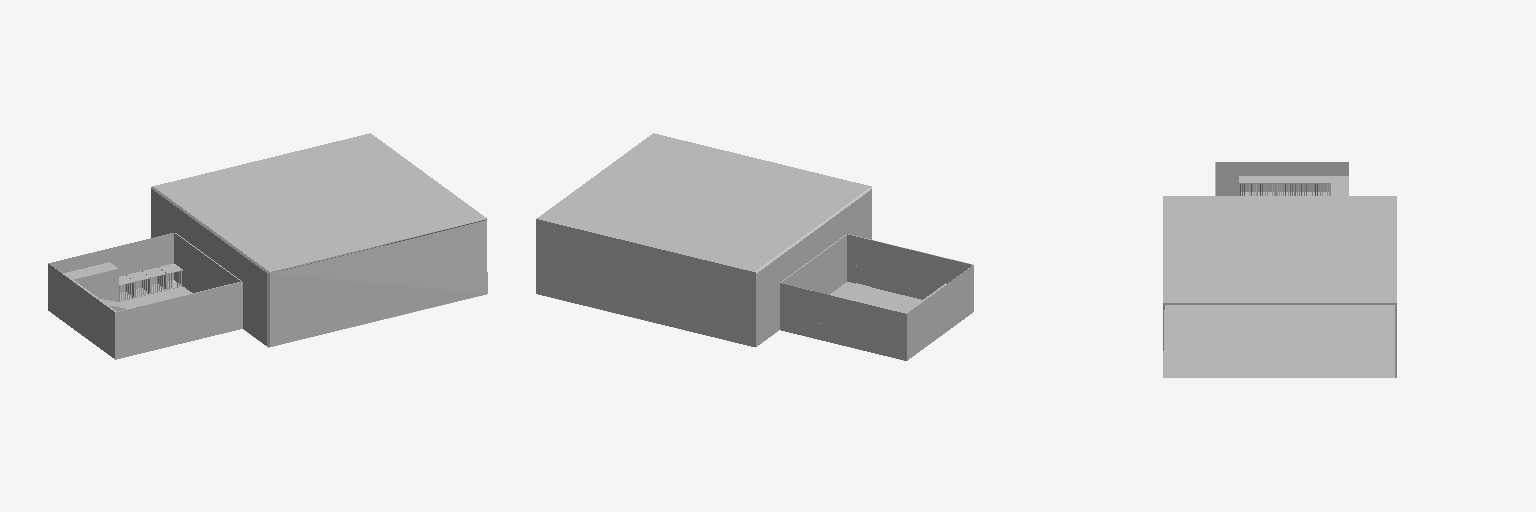
File: prison.obj
3 views of the same model, side by side, from view 1: azimuth 30°, elevation 25°; view 2: azimuth 150°, elevation 25°; view 3: azimuth 270°, elevation 25° (orthographic).
Visible parts, largest first — view 1: Cube.016_Cube.010, Cube.014_Cube.008, Cube.013_Cube.007, Plane.002_Plane.003; view 2: Cube.016_Cube.010, Cube.014_Cube.008, Plane.002_Plane.003; view 3: Cube.016_Cube.010, Plane.002_Plane.003, Cube.014_Cube.008.
Part boxes in pixels (x1,y1,x2,y2): Cube.016_Cube.010: (151,133,487,346); Cube.014_Cube.008: (48,233,242,359); Cube.013_Cube.007: (63,262,118,301); Plane.002_Plane.003: (49,287,486,355); Cube.016_Cube.010: (536,133,871,346); Cube.014_Cube.008: (780,234,973,360); Plane.002_Plane.003: (546,282,970,360); Cube.016_Cube.010: (1163,196,1396,377); Plane.002_Plane.003: (1163,305,1394,377); Cube.014_Cube.008: (1215,162,1348,195).
Size of the model in its own units: 8.8 by 1.83 by 5.15.